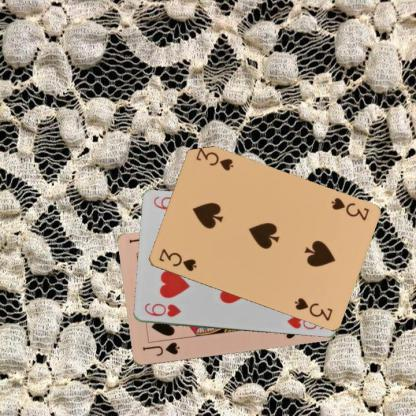3s: (156, 246, 198, 273), (328, 195, 370, 222)
6h: (142, 300, 182, 319)
Js: (140, 340, 181, 358)
